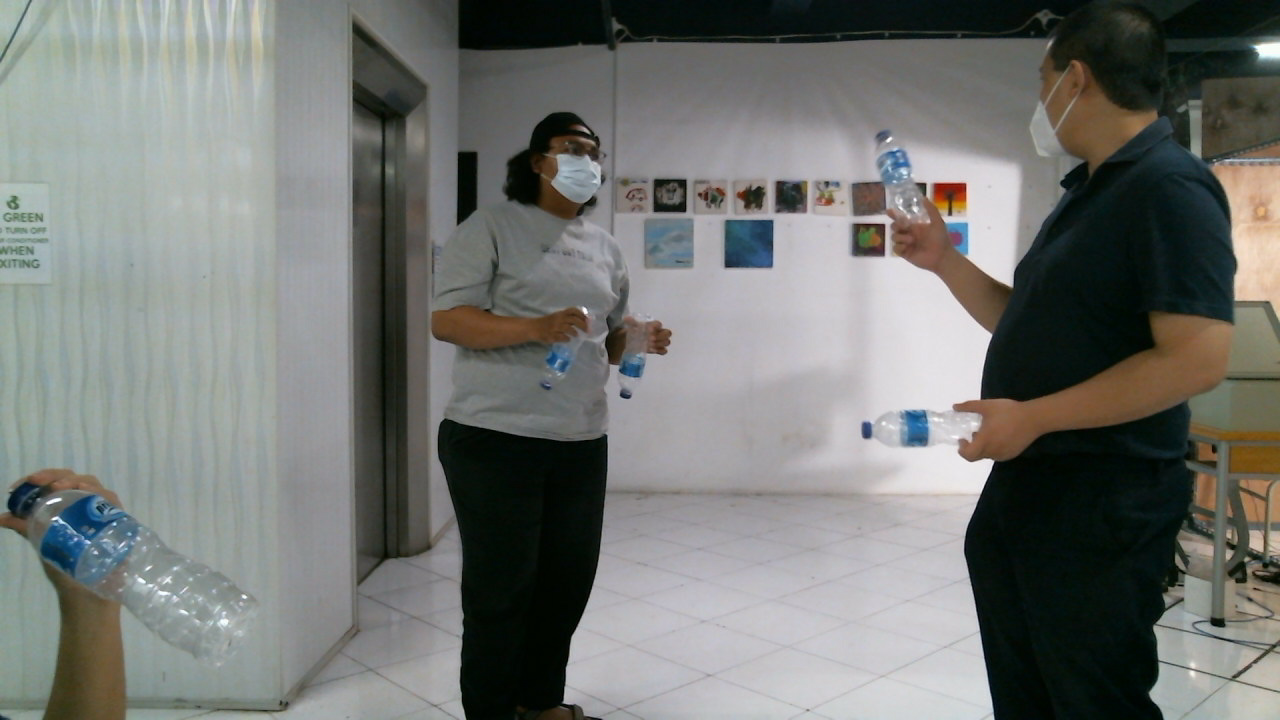Bottle: (5, 478, 266, 668), (861, 410, 986, 439), (619, 316, 649, 402)
